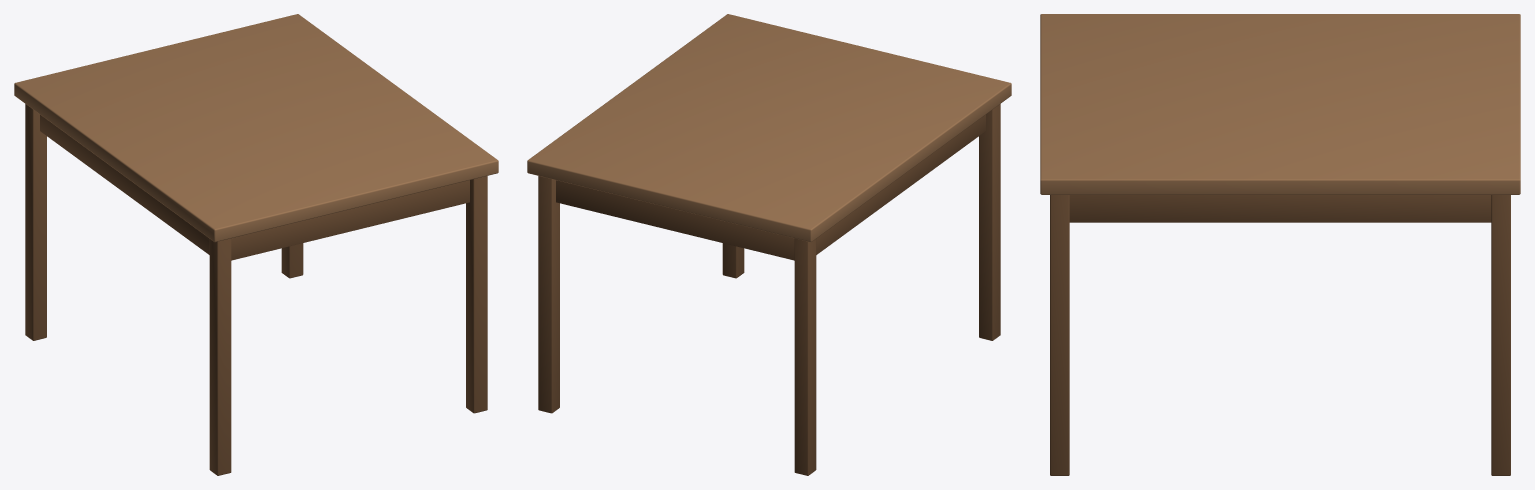
Rendered from desk.glb.
3 renders of one model, left to right at view 1: azimuth 30°, elevation 25°; view 2: azimuth 150°, elevation 25°; view 3: azimuth 270°, elevation 25°, orthographic. The views are drawn at different scales.
Parts seen in each view (by area): view 1: Desk; view 2: Desk; view 3: Desk.
Boxes of the visible parts, bbox=[...] form: Desk: bbox=[14, 14, 498, 475]; Desk: bbox=[527, 14, 1011, 475]; Desk: bbox=[1040, 14, 1520, 475].
Size of the model in its own units: 9 by 7.6 by 11.
